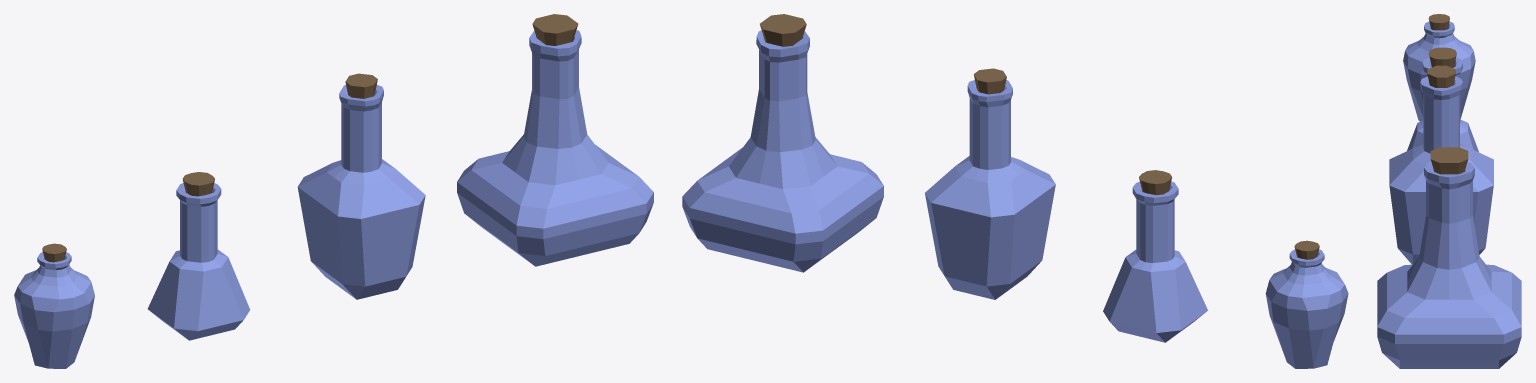
Rendered from Bottiglie blu piccole-grandi.fbx.
3 renders of one model, left to right at view 1: azimuth 30°, elevation 25°; view 2: azimuth 150°, elevation 25°; view 3: azimuth 270°, elevation 25°, orthographic. The views are drawn at different scales.
Parts seen in each view (by area): view 1: Large_Blue, Medium_Blue, Small_Blue, Vial_Blue; view 2: Large_Blue, Medium_Blue, Small_Blue, Vial_Blue; view 3: Large_Blue, Medium_Blue, Vial_Blue, Small_Blue.
Part boxes in pixels (left/top/right/bottom): Large_Blue: left=457, top=14, right=653, bottom=266; Medium_Blue: left=297, top=73, right=425, bottom=299; Small_Blue: left=147, top=172, right=250, bottom=340; Vial_Blue: left=14, top=243, right=94, bottom=368; Large_Blue: left=682, top=14, right=883, bottom=272; Medium_Blue: left=925, top=68, right=1055, bottom=299; Small_Blue: left=1103, top=170, right=1207, bottom=342; Vial_Blue: left=1265, top=240, right=1348, bottom=368; Large_Blue: left=1377, top=147, right=1521, bottom=368; Medium_Blue: left=1389, top=65, right=1493, bottom=264; Vial_Blue: left=1403, top=14, right=1475, bottom=121; Small_Blue: left=1407, top=47, right=1478, bottom=152.
Size of the model in its own units: 2656 by 881 by 598.
